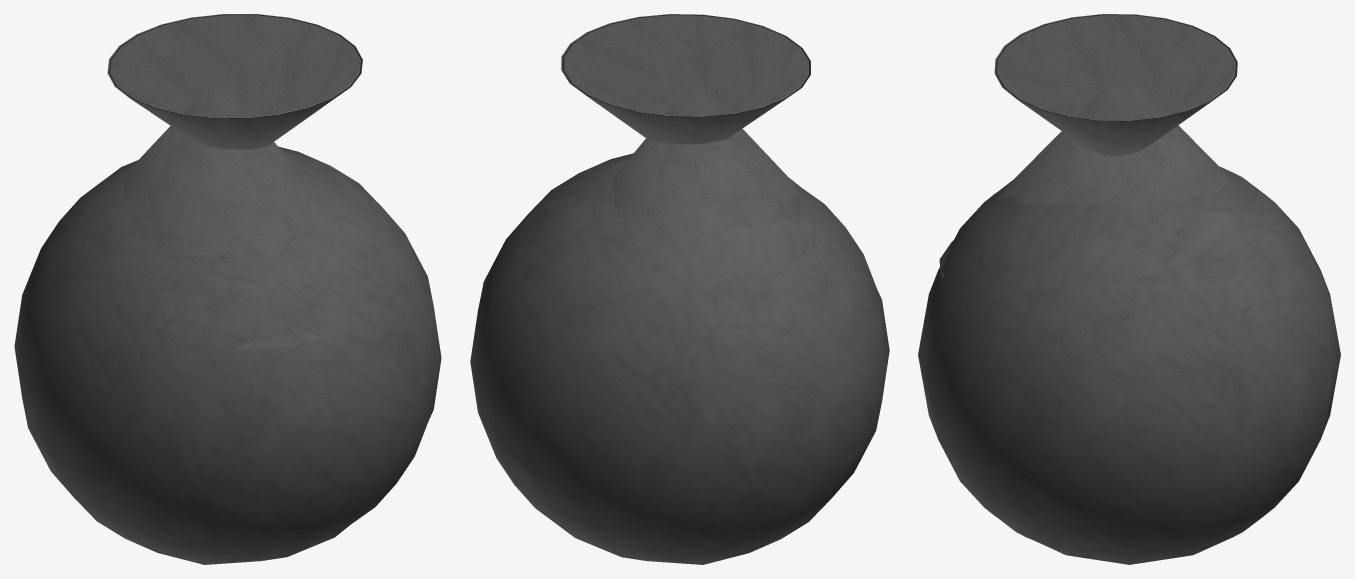
File: bag.glb
3 views of the same model, side by side, from view 1: azimuth 30°, elevation 25°; view 2: azimuth 150°, elevation 25°; view 3: azimuth 270°, elevation 25° (orthographic).
Visible parts, largest first — view 1: bag; view 2: bag; view 3: bag.
Boxes of the visible parts, <box> form: bag: <box>14,14,441,564</box>; bag: <box>470,14,889,564</box>; bag: <box>918,14,1340,564</box>.
Bounding box in the file's own units: 4 × 5 × 4.
1 material, 1 textured.
